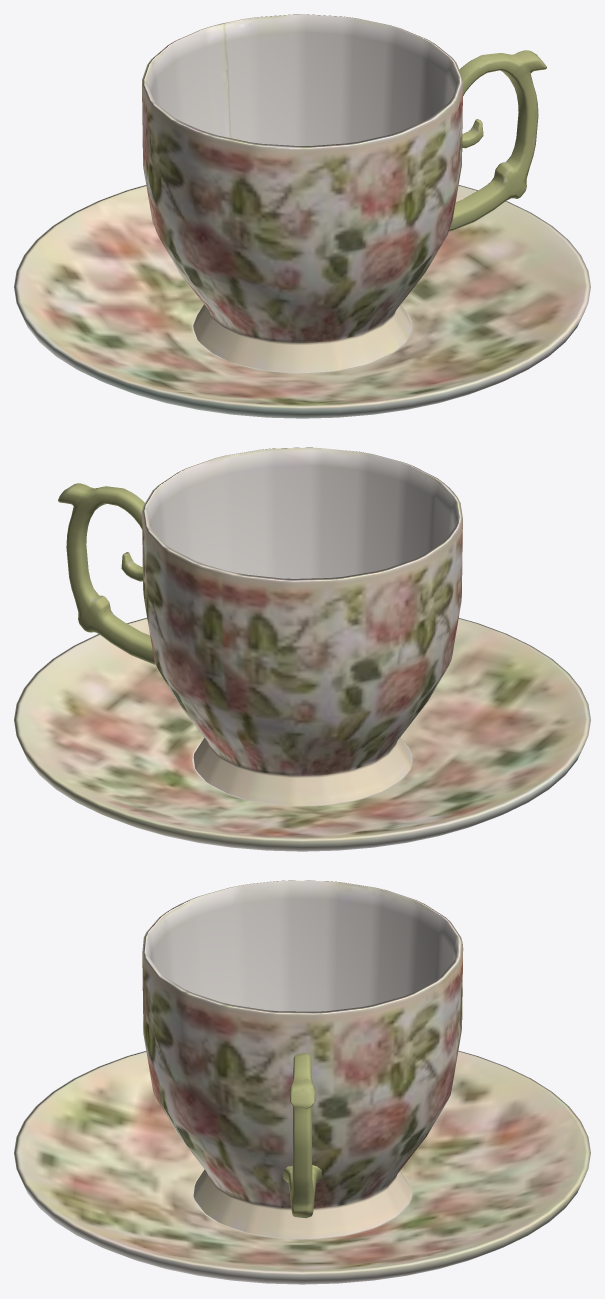
File: obj_cup_and_plate.glb
The picture shows the model from 3 angles, top to bottom: view 1: azimuth 30°, elevation 25°; view 2: azimuth 150°, elevation 25°; view 3: azimuth 270°, elevation 25°; orthographic projection.
Visible parts, largest first — view 1: pCylinder1_plate_0; view 2: pCylinder1_plate_0; view 3: pCylinder1_plate_0.
Part boxes in pixels (x1,y1,x2,y2): pCylinder1_plate_0: (14,14,590,418); pCylinder1_plate_0: (14,447,590,851); pCylinder1_plate_0: (14,880,590,1284).
Size of the model in its own units: 0.16 by 0.0812 by 0.16.
2 materials, 2 textured.
